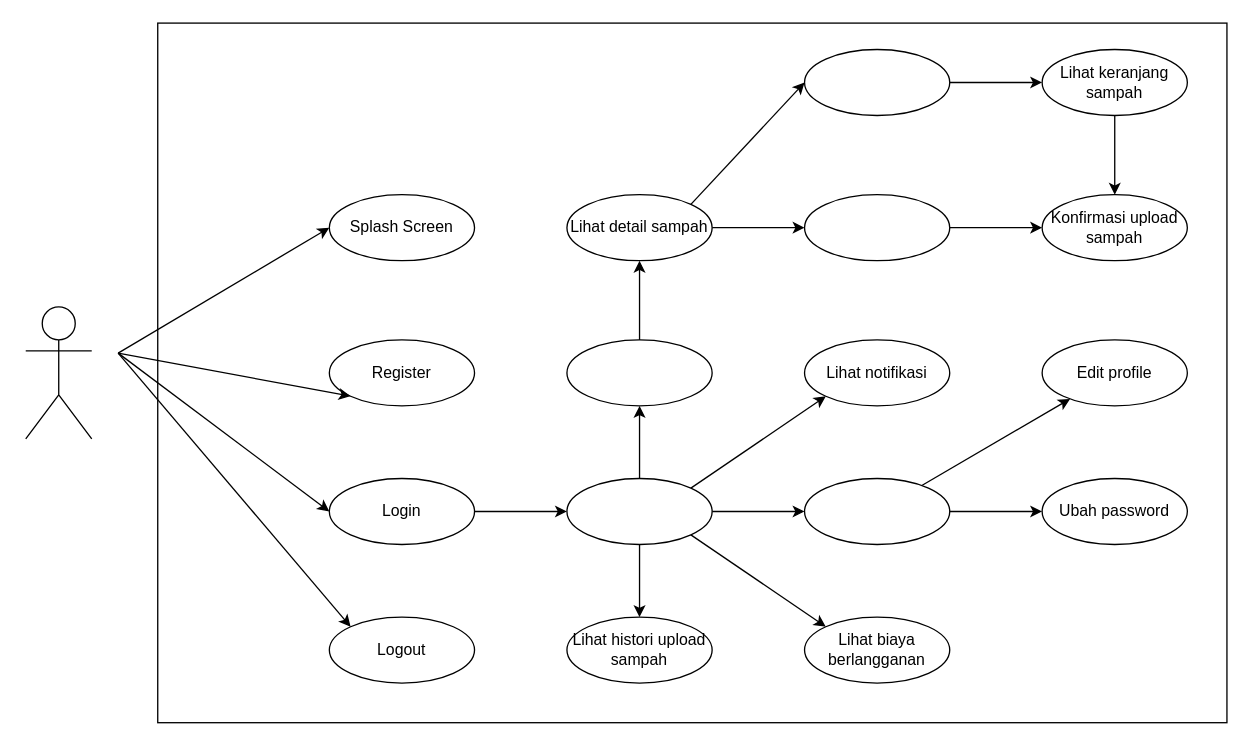
This 1250x746 diagram has some shape labels left out. The shapes that lost their labels are listed below. From the top down, each one's centre as x and y in pixels, then its label:
At (x=876, y=82): "Tambahkan ke keranjang sampah".
At (x=876, y=227): "Langsung upload".
At (x=58, y=372): "Pengguna".
At (x=639, y=372): "Lihat daftar sampah".
At (x=639, y=510): "Homepage".
At (x=876, y=510): "Lihat Profile".
